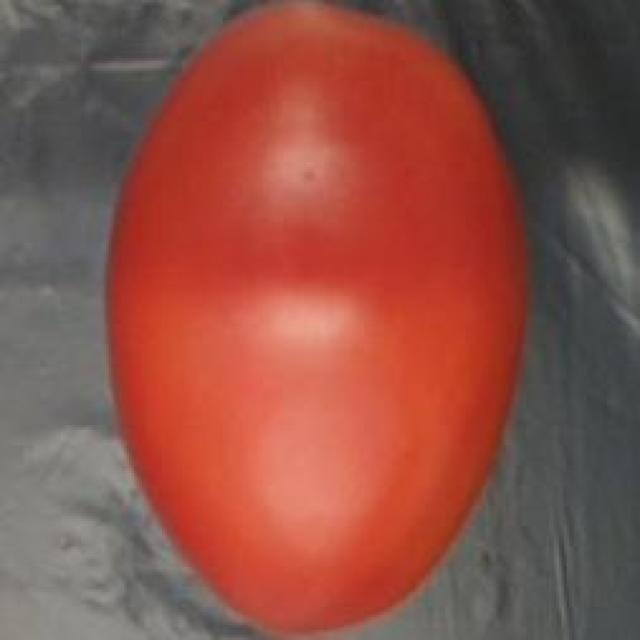ripe tomato: (91, 0, 539, 640)
